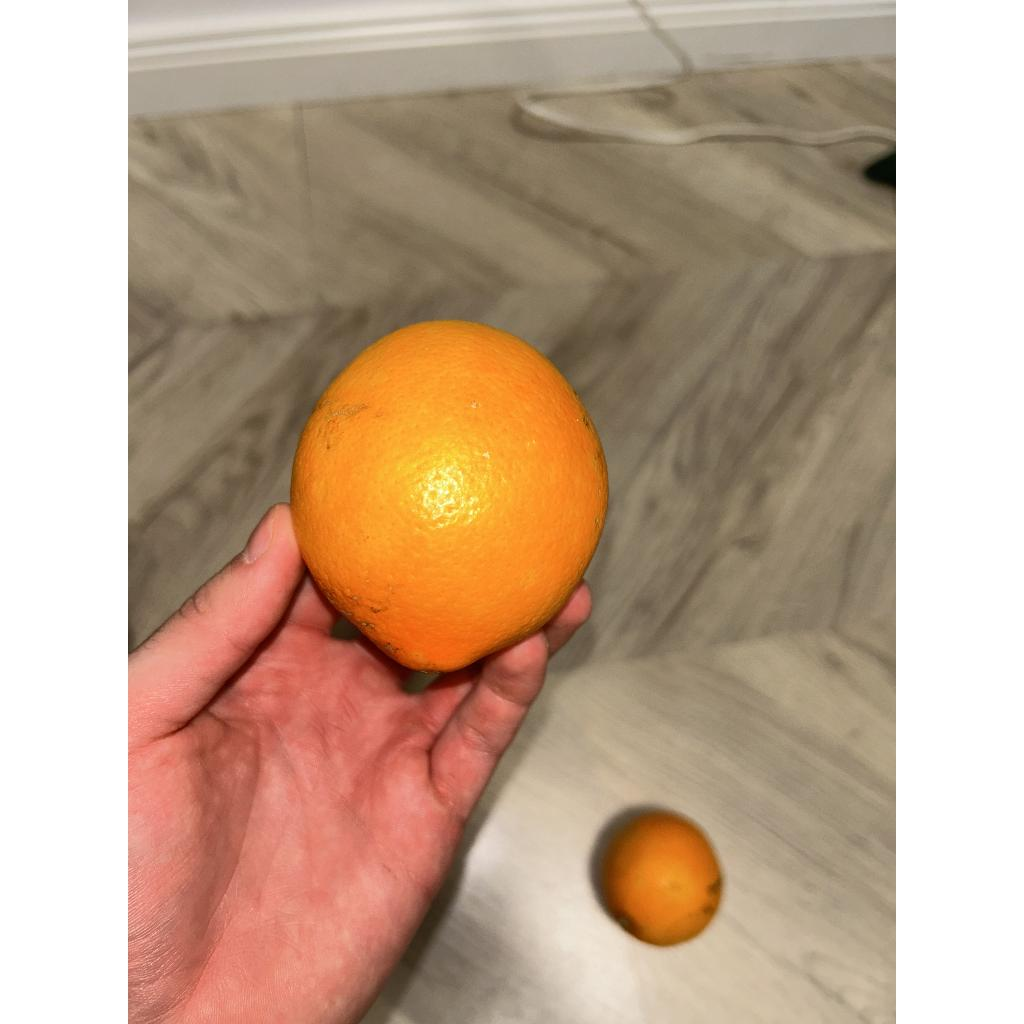orange: (290, 321, 610, 676), (589, 809, 725, 952)
